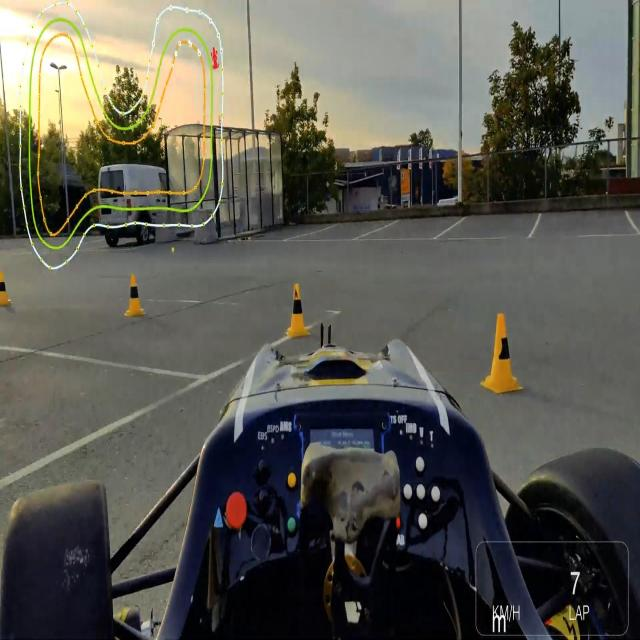yellow_cone: (480, 313, 523, 392), (286, 283, 310, 338), (126, 273, 146, 319)
